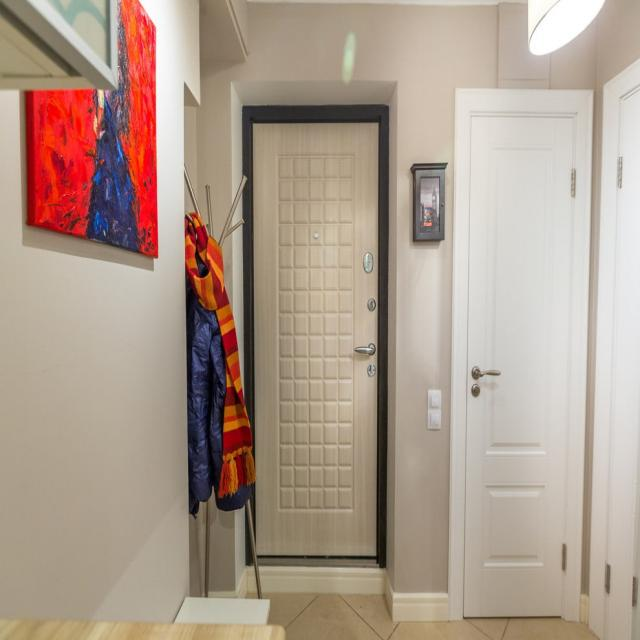close: (458, 98, 586, 620), (246, 117, 384, 569)
